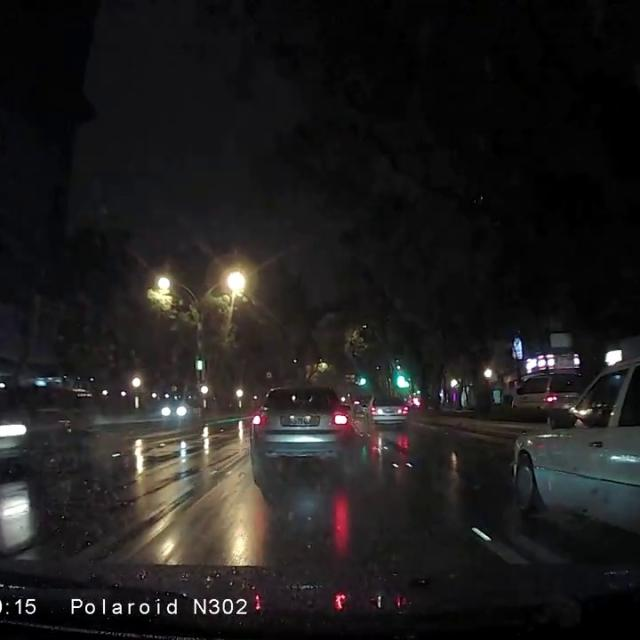Car: (510, 355, 639, 530), (248, 383, 353, 467), (504, 363, 587, 423), (366, 391, 408, 428)
